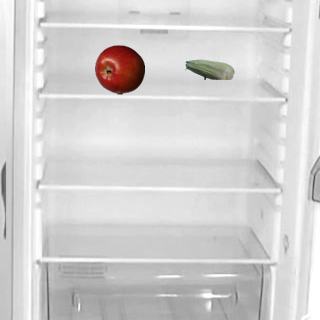Apple Braeburn: (94, 44, 144, 94)
Corn Husk: (184, 44, 234, 94)
